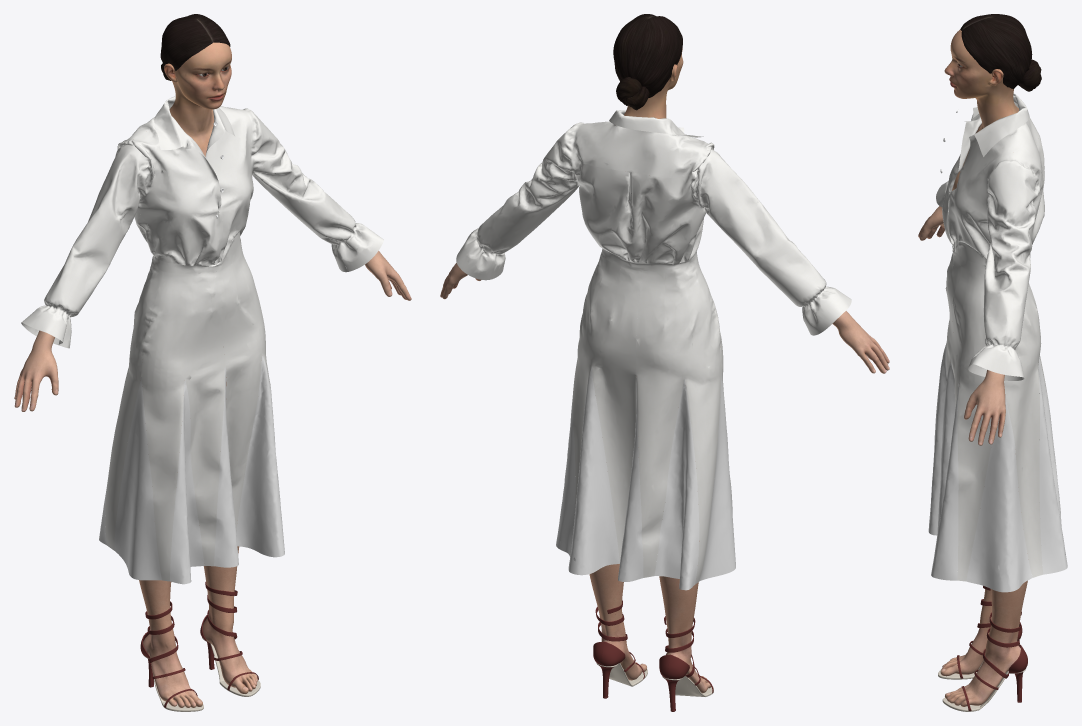
3 renders of one model, left to right at view 1: azimuth 30°, elevation 25°; view 2: azimuth 150°, elevation 25°; view 3: azimuth 270°, elevation 25°, orthographic.
Parts seen in each view (by area): view 1: Cloth, Avatar; view 2: Cloth, Avatar; view 3: Cloth, Avatar.
Part boxes in pixels (box(x1,y1,x2,y2)): Cloth: box(21, 96, 383, 584); Avatar: box(14, 14, 411, 711); Cloth: box(456, 110, 851, 590); Avatar: box(440, 14, 889, 711); Cloth: box(928, 93, 1067, 592); Avatar: box(918, 14, 1041, 711).
Bounding box in the file's own units: 1.08 × 1.66 × 0.3354.
Materials: 17 (11 with a texture image).
